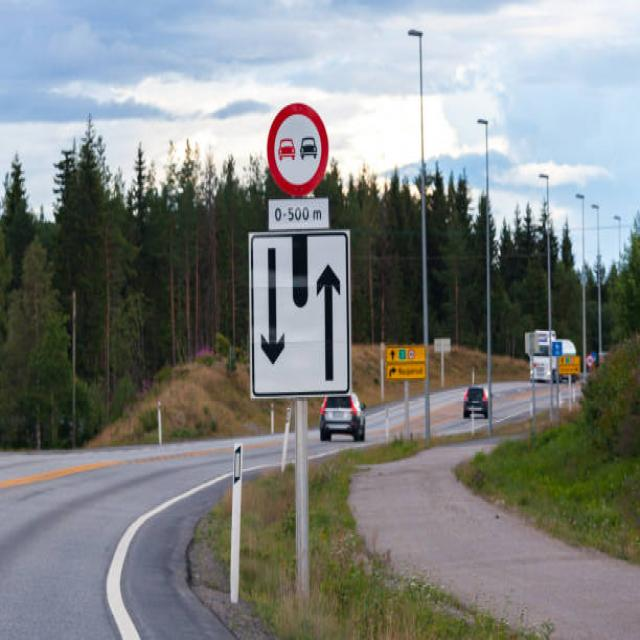no_passing: (256, 91, 330, 196)
